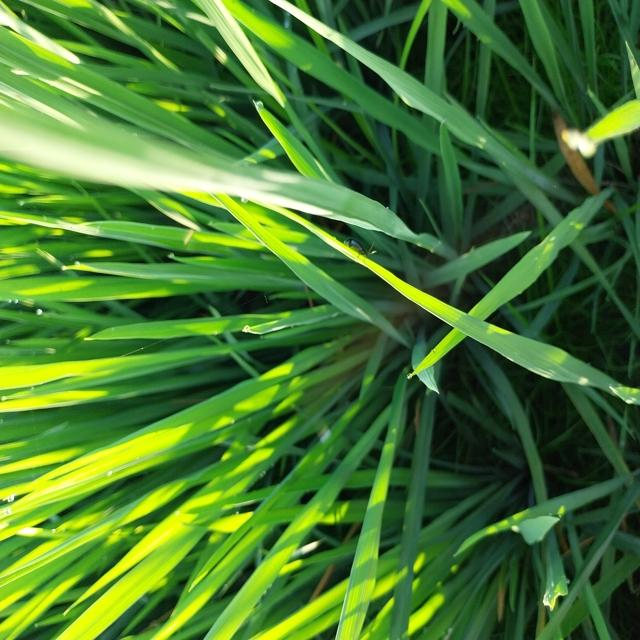Brown spot: (547, 89, 623, 240)
